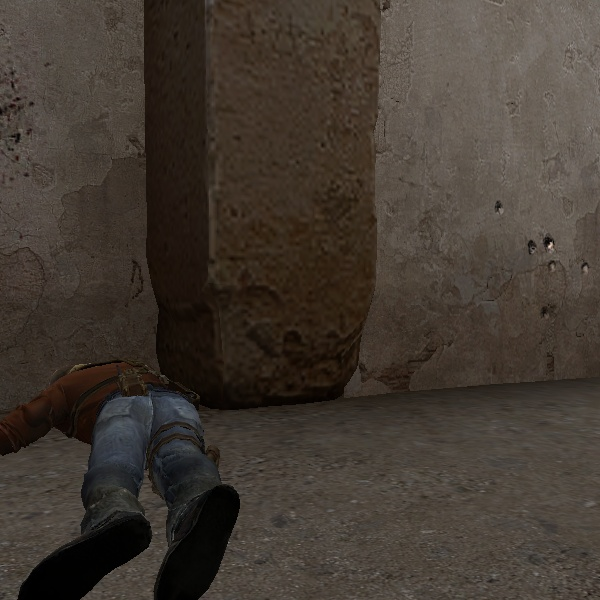ct_head: (13, 358, 281, 595)
